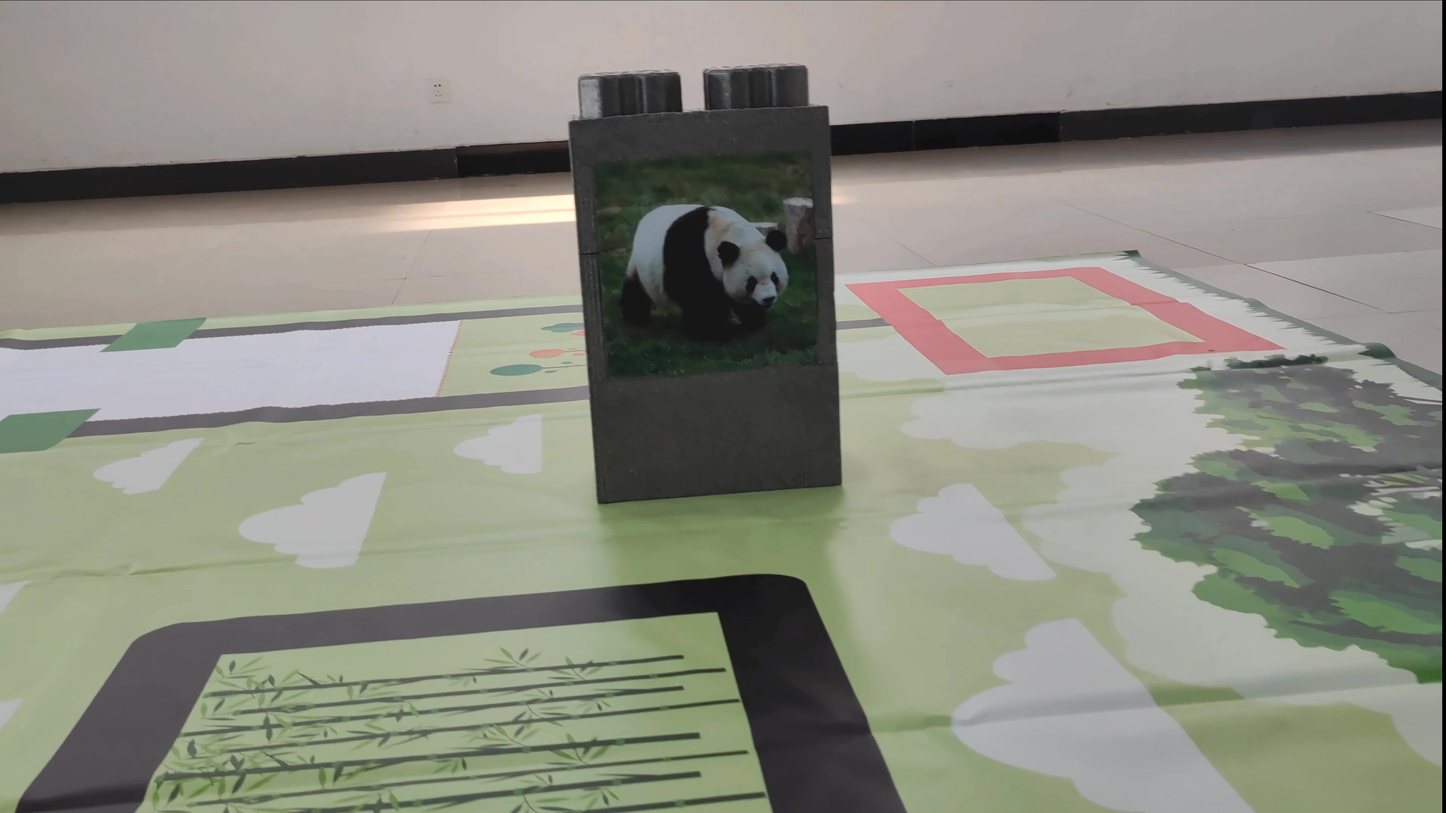panda: (602, 187, 799, 342)
